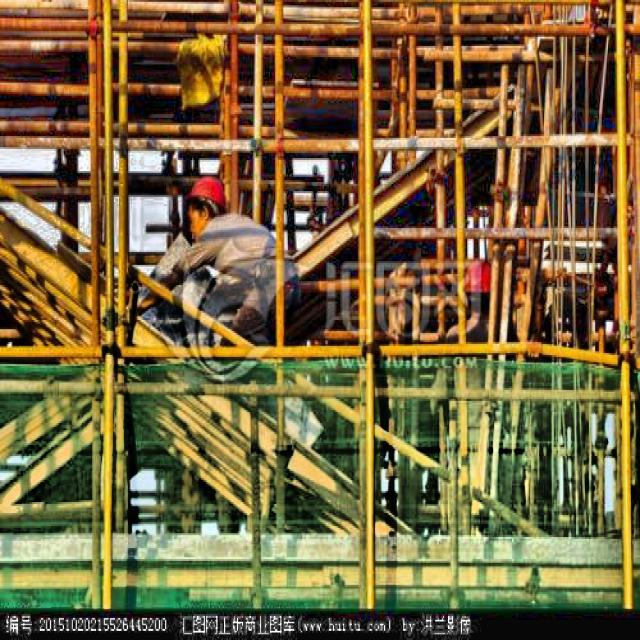helmet: (178, 171, 232, 235)
